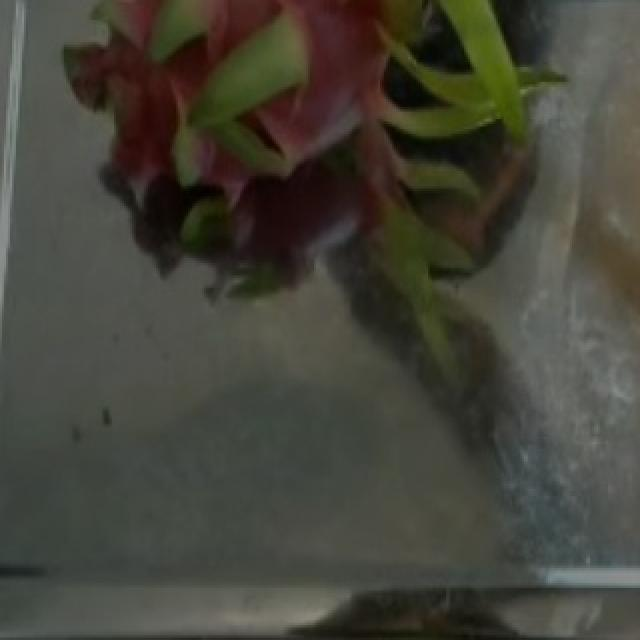fruit: (140, 0, 588, 380)
